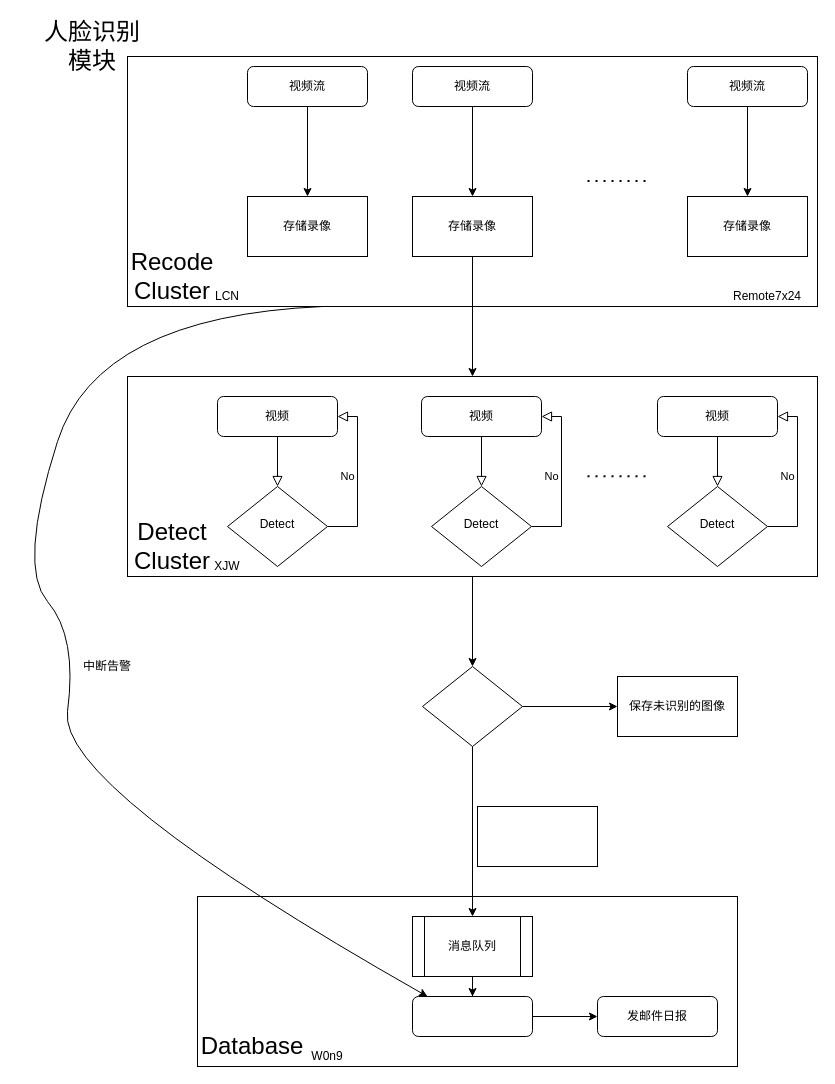
This 835x1084 diagram has some shape labels left out. The centre of each missing label's shape, as x and y in pixels:
Verify: [472,706]
写入数据库(计数): [472,1016]
医院id, 人脸数据: [537,836]
